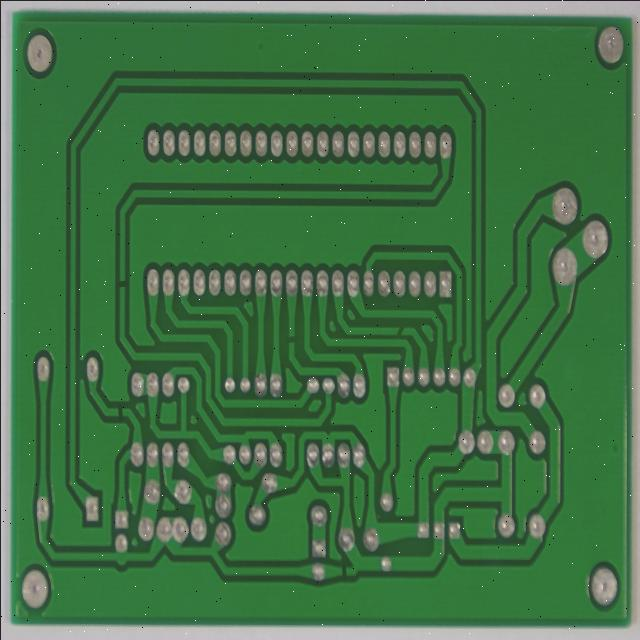open_circuit: (337, 561, 350, 580), (113, 403, 125, 420), (285, 331, 297, 346), (394, 322, 406, 337), (116, 276, 126, 291)
